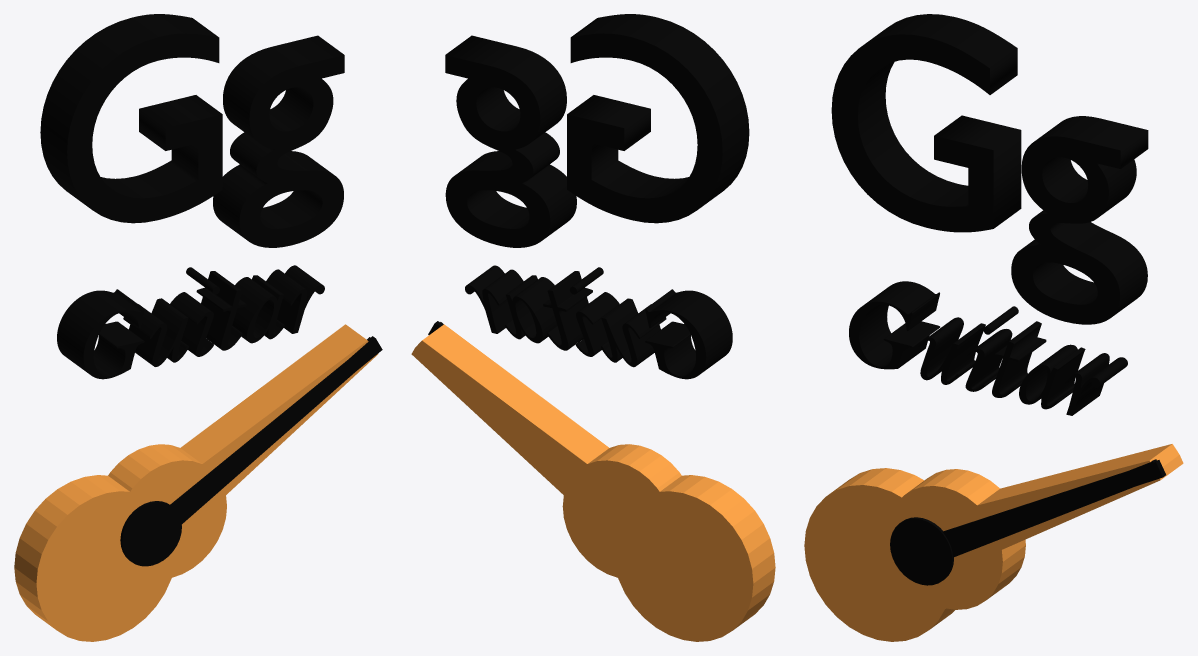
File: Letter_G.glb
The picture shows the model from 3 angles, left to right: view 1: azimuth 30°, elevation 25°; view 2: azimuth 150°, elevation 25°; view 3: azimuth 330°, elevation 25°; orthographic projection. The views are drawn at different scales.
Visible parts, largest first — view 1: Text, Cylinder, Text.001, Cylinder.001, Cube, Cylinder.002, Cube.001; view 2: Text, Cylinder, Cylinder.001, Text.001; view 3: Text, Text.001, Cylinder, Cylinder.001, Cube.001, Cylinder.002, Cube.
Part boxes in pixels (x1,y1,x2,y2): Text: [40, 14, 344, 247]; Cylinder: [14, 475, 176, 641]; Text.001: [57, 265, 324, 379]; Cylinder.001: [108, 324, 377, 579]; Cube: [170, 336, 382, 515]; Cylinder.002: [120, 501, 181, 566]; Cube.001: [179, 337, 379, 524]; Text: [445, 14, 749, 247]; Cylinder: [613, 475, 775, 641]; Cylinder.001: [411, 324, 681, 579]; Text.001: [465, 265, 732, 379]; Text: [831, 14, 1148, 324]; Text.001: [849, 281, 1127, 415]; Cylinder: [804, 468, 955, 641]; Cylinder.001: [887, 444, 1183, 609]; Cube.001: [951, 459, 1160, 557]; Cylinder.002: [890, 517, 953, 585]; Cube: [943, 460, 1165, 546].
Size of the model in its own units: 0.899 by 1.47 by 0.1201.
